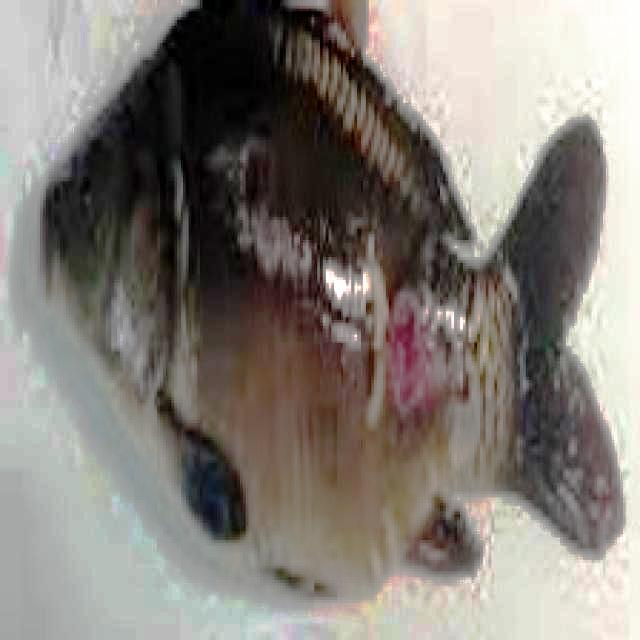Aeromonas Septicemia: (39, 0, 621, 596), (42, 1, 620, 594)
